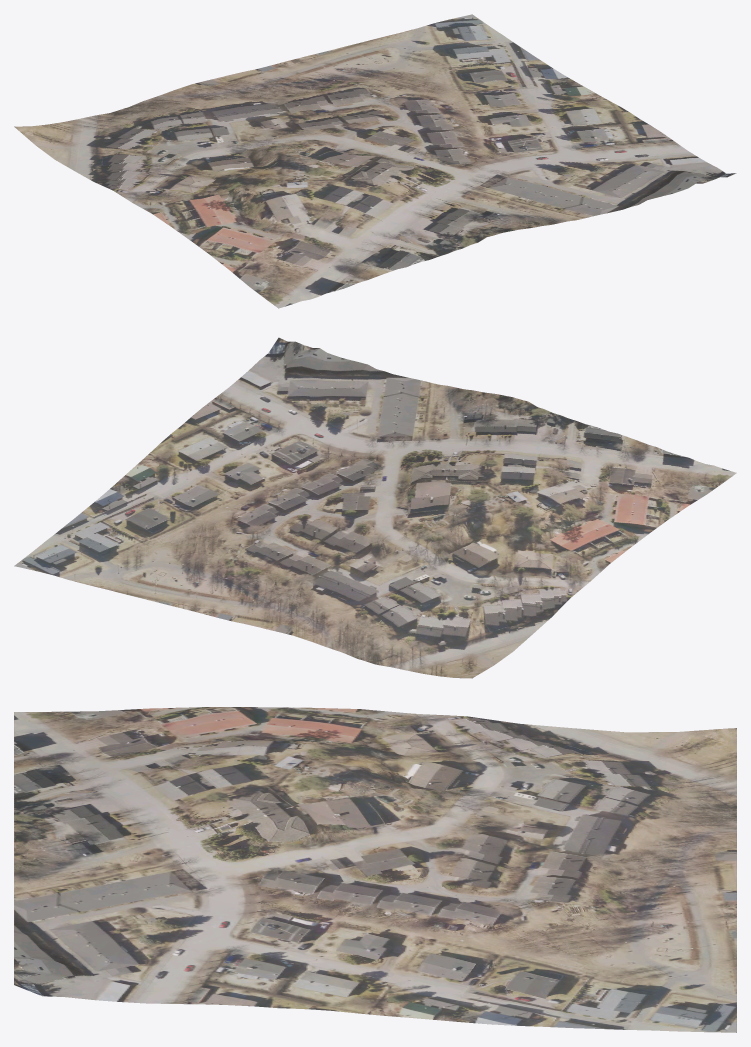
File: CM_Terrain_24492302_6817541.fbx
3 views of the same model, one above another, from view 1: azimuth 30°, elevation 25°; view 2: azimuth 150°, elevation 25°; view 3: azimuth 270°, elevation 25° (orthographic). The views are drawn at different scales.
Visible parts, largest first — view 1: CM_Terrain_24492302_6817541_LOD0; view 2: CM_Terrain_24492302_6817541_LOD0; view 3: CM_Terrain_24492302_6817541_LOD0.
Part boxes in pixels (bbox=[...]): CM_Terrain_24492302_6817541_LOD0: bbox=[14, 14, 736, 308]; CM_Terrain_24492302_6817541_LOD0: bbox=[14, 337, 736, 678]; CM_Terrain_24492302_6817541_LOD0: bbox=[14, 707, 736, 1032].
Size of what is drawn, in the model's own units: 205 by 19.32 by 205.
